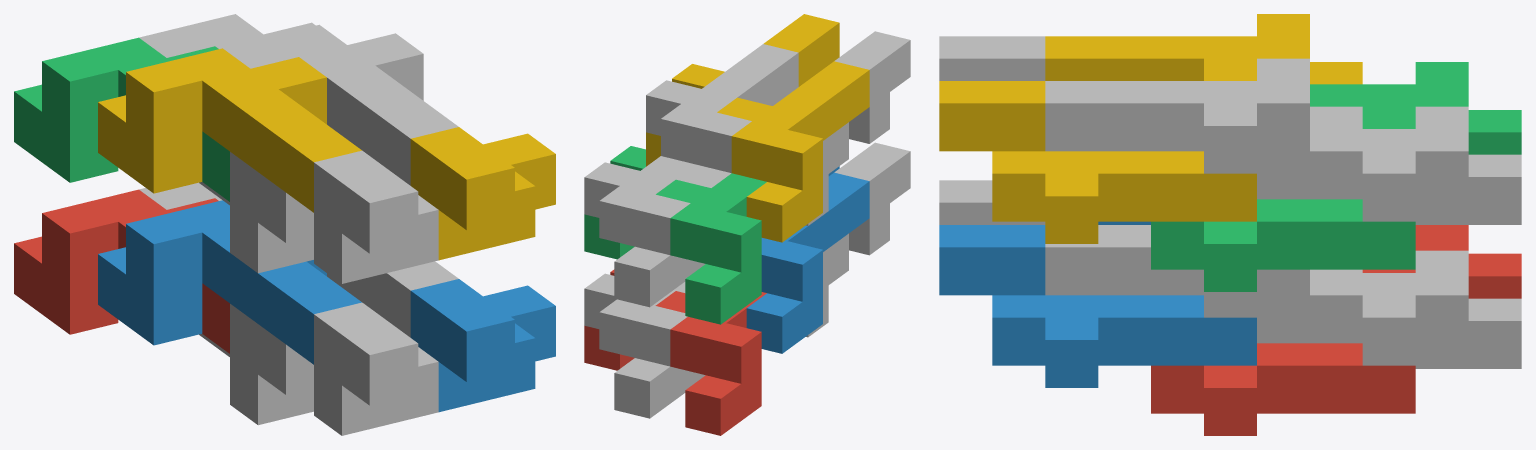
The model's file is tiling.obj.
The picture shows the model from 3 angles, left to right: view 1: azimuth 30°, elevation 25°; view 2: azimuth 150°, elevation 25°; view 3: azimuth 270°, elevation 25°; orthographic projection. The views are drawn at different scales.
Visible parts, largest first — view 1: copy_1_domain_4, copy_1_domain_2, copy_1_domain_8, copy_2_domain_6, copy_2_domain_8, copy_1_domain_1, copy_1_domain_3, copy_2_domain_4, copy_2_domain_2, copy_2_domain_1, copy_2_domain_3, copy_1_domain_6 (+2 smaller); view 2: copy_1_domain_4, copy_1_domain_3, copy_1_domain_8, copy_1_domain_7, copy_1_domain_2, copy_1_domain_1, copy_1_domain_5, copy_2_domain_4, copy_2_domain_2, copy_2_domain_8, copy_2_domain_7, copy_2_domain_3 (+2 smaller); view 3: copy_2_domain_6, copy_2_domain_8, copy_1_domain_8, copy_1_domain_5, copy_1_domain_7, copy_2_domain_5, copy_2_domain_7, copy_1_domain_4, copy_1_domain_6, copy_1_domain_3, copy_2_domain_4, copy_1_domain_1 (+1 smaller).
Boxes of the visible parts, left/top/right/bottom form: copy_1_domain_4: left=98, top=48, right=361, bottom=212; copy_1_domain_2: left=98, top=200, right=361, bottom=364; copy_1_domain_8: left=223, top=24, right=458, bottom=185; copy_2_domain_6: left=410, top=279, right=555, bottom=412; copy_2_domain_8: left=410, top=127, right=555, bottom=260; copy_1_domain_1: left=14, top=189, right=229, bottom=353; copy_1_domain_3: left=14, top=37, right=229, bottom=201; copy_2_domain_4: left=314, top=150, right=438, bottom=283; copy_2_domain_2: left=314, top=302, right=438, bottom=435; copy_2_domain_1: left=199, top=304, right=313, bottom=425; copy_2_domain_3: left=199, top=152, right=313, bottom=273; copy_1_domain_6: left=327, top=261, right=458, bottom=337; copy_1_domain_4: left=717, top=61, right=869, bottom=242; copy_1_domain_3: left=656, top=173, right=766, bottom=324; copy_1_domain_8: left=646, top=44, right=798, bottom=187; copy_1_domain_7: left=584, top=156, right=695, bottom=307; copy_1_domain_2: left=746, top=172, right=869, bottom=353; copy_1_domain_1: left=655, top=291, right=766, bottom=435; copy_1_domain_5: left=584, top=273, right=690, bottom=418; copy_2_domain_4: left=834, top=31, right=910, bottom=143; copy_2_domain_2: left=834, top=142, right=910, bottom=255; copy_2_domain_8: left=646, top=14, right=839, bottom=166; copy_2_domain_7: left=584, top=146, right=645, bottom=259; copy_2_domain_3: left=691, top=122, right=848, bottom=274; copy_2_domain_6: left=939, top=225, right=1256, bottom=387; copy_2_domain_8: left=939, top=81, right=1256, bottom=243; copy_1_domain_8: left=1045, top=58, right=1362, bottom=173; copy_1_domain_5: left=1257, top=250, right=1521, bottom=368; copy_1_domain_7: left=1257, top=106, right=1521, bottom=224; copy_2_domain_5: left=1151, top=343, right=1415, bottom=435; copy_2_domain_7: left=1151, top=199, right=1415, bottom=291; copy_1_domain_4: left=1045, top=14, right=1362, bottom=84; copy_1_domain_6: left=1045, top=225, right=1362, bottom=317; copy_1_domain_3: left=1310, top=62, right=1521, bottom=154; copy_2_domain_4: left=939, top=36, right=1045, bottom=80; copy_1_domain_1: left=1362, top=225, right=1521, bottom=298.
Size of the model in its own units: 6 by 6 by 11.
